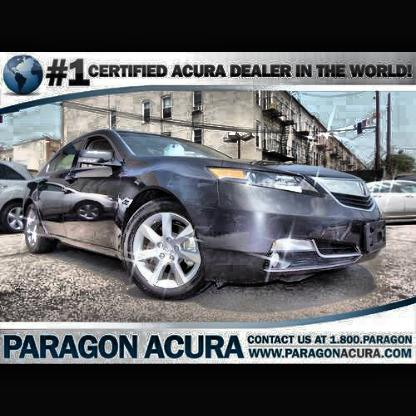Acura TL Sedan 2012: (16, 123, 398, 308)
